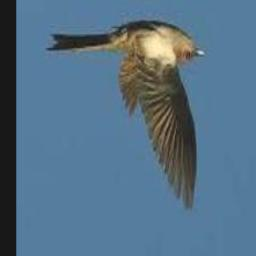Cuckoo: (45, 23, 205, 212)
